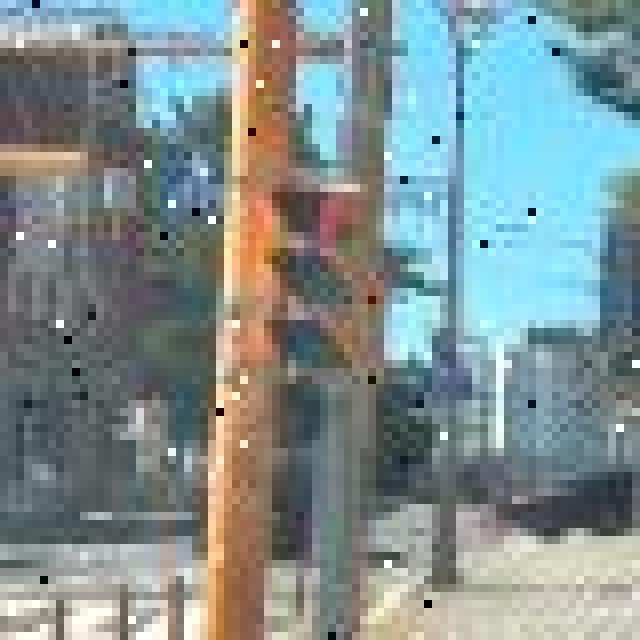redlight: (274, 167, 382, 331)
